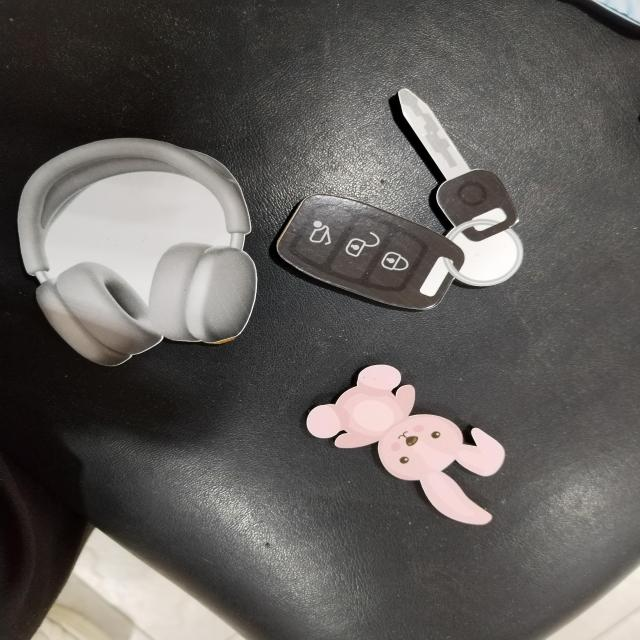Other Objects: (16, 136, 258, 367), (274, 87, 523, 310), (305, 363, 506, 526)
